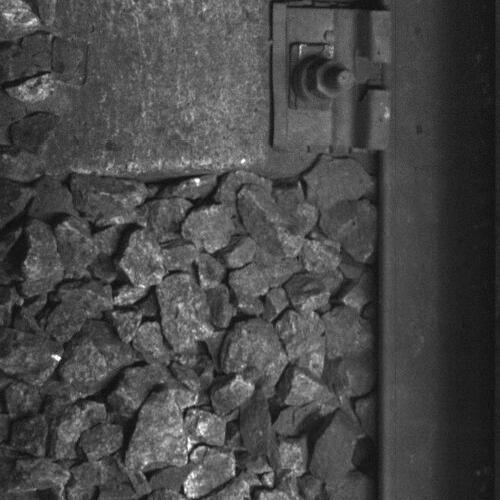kb_no_bracket: (356, 3, 398, 153)
nut: (304, 51, 357, 106)
tie_concr_ballast: (1, 1, 377, 165)
